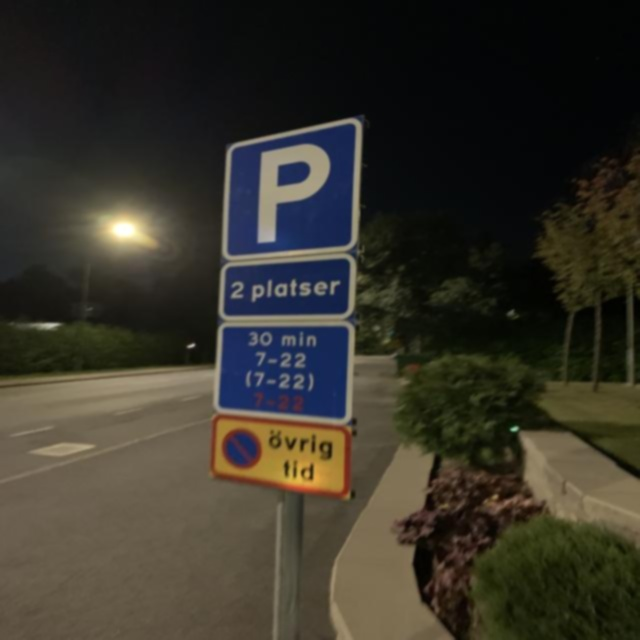P-skylt: (218, 115, 366, 266)
